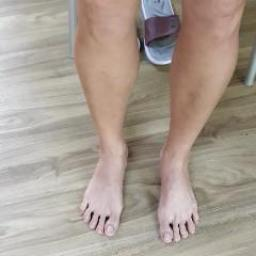Front View -Both Feet-: (66, 109, 215, 252)
